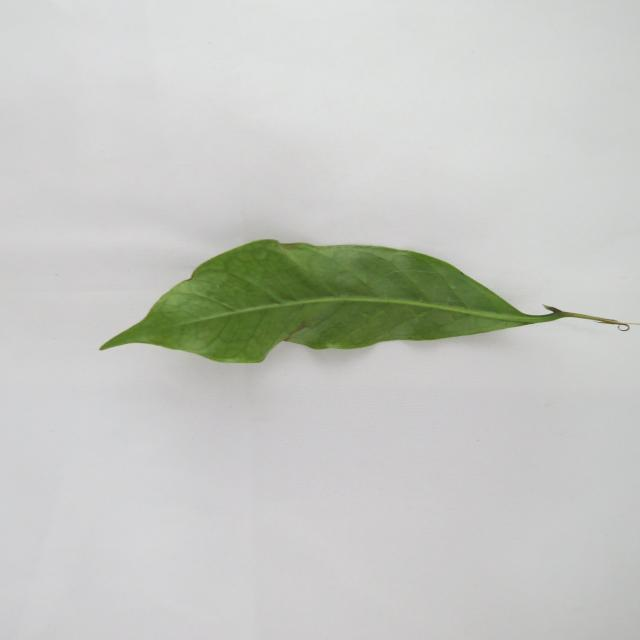DeficienciaNutricional-Manganeso: (100, 240, 632, 362)
